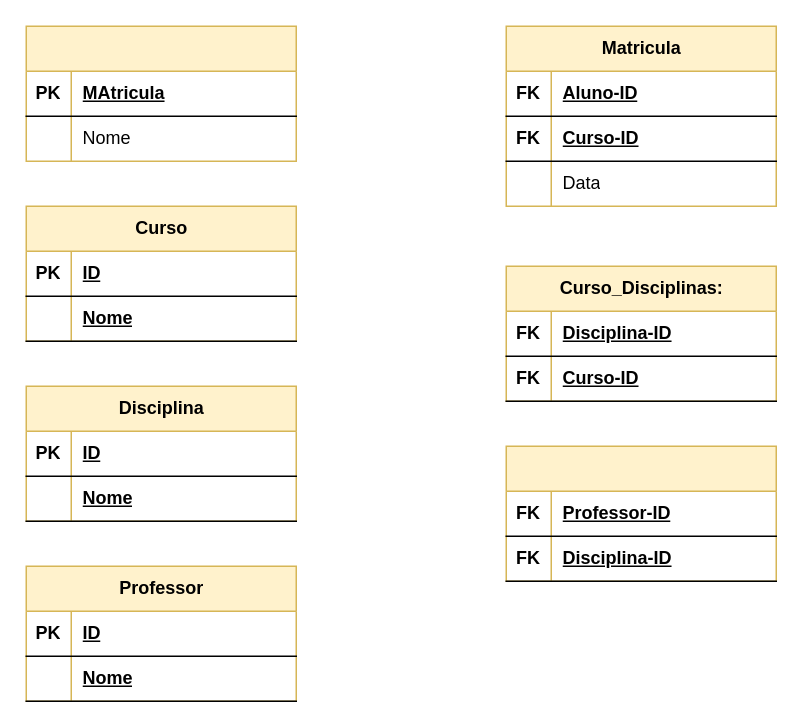
This 803x728 diagram has some shape labels left out. The shapes that lost their labels are listed below. From the top down, each one's box as (x1, y1, x2, y2) in pixels, then its label:
(25, 25, 296, 161): Aluno
(505, 445, 776, 581): Professor_Disciplina:
